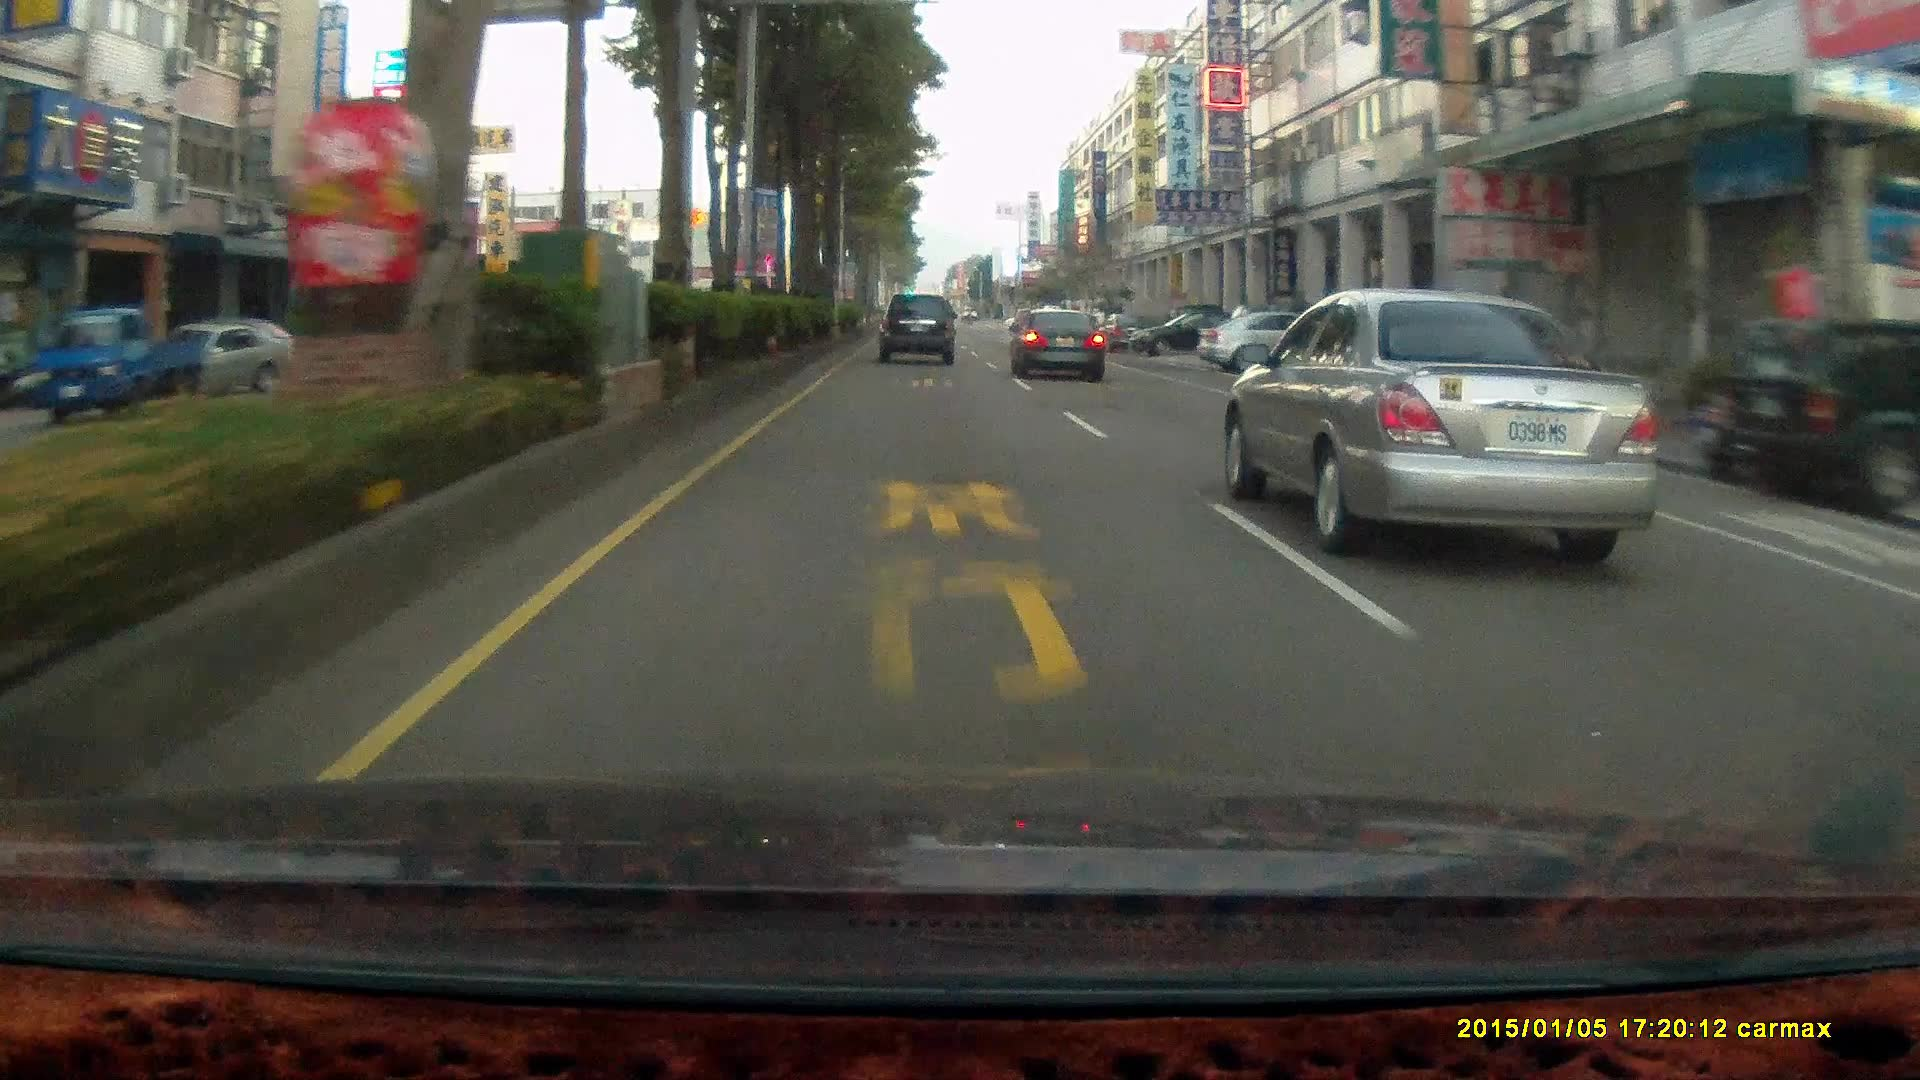vehicle: (1226, 286, 1685, 556), (1698, 314, 1920, 512), (1720, 313, 1919, 508), (29, 307, 204, 423), (1344, 313, 1507, 431), (53, 309, 204, 417), (136, 320, 290, 397), (1197, 309, 1366, 375), (1007, 305, 1106, 378), (1011, 305, 1109, 378), (877, 293, 959, 368), (876, 293, 957, 365), (1127, 306, 1249, 353)
